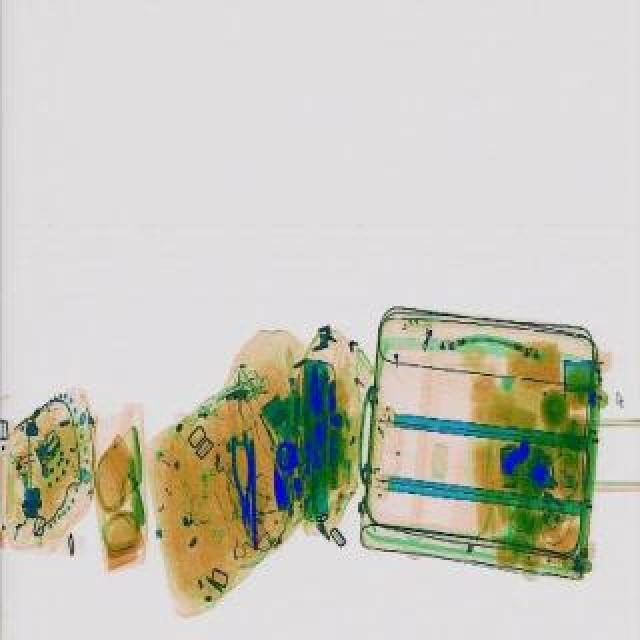wrench: (226, 428, 260, 536)
